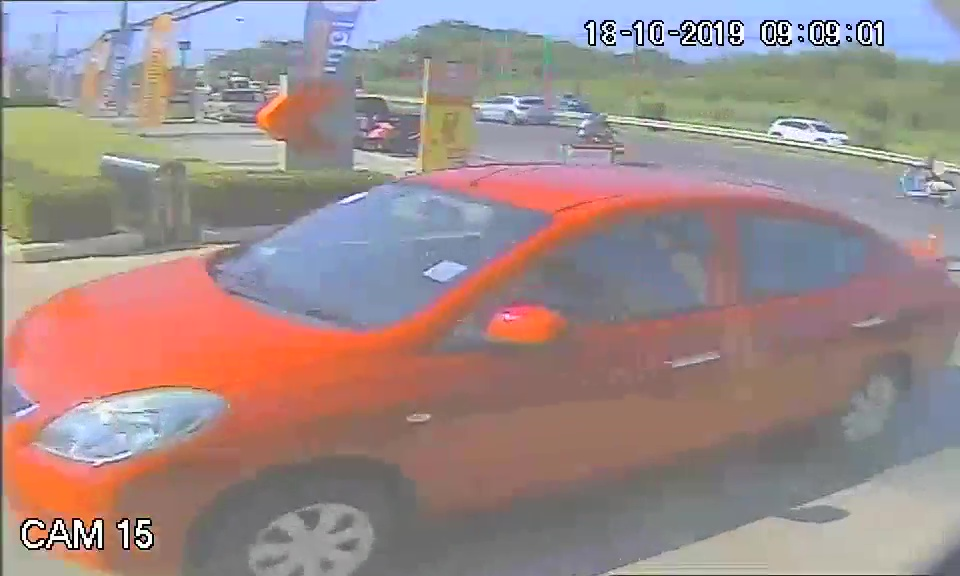sedan: (12, 157, 729, 574)
